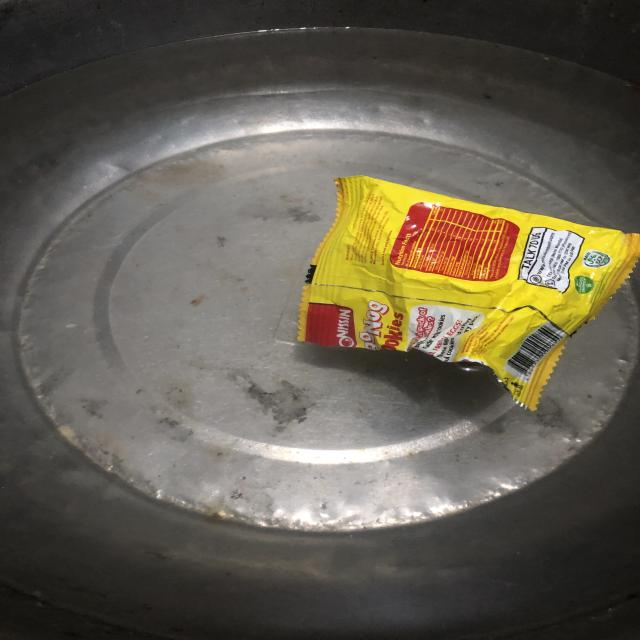Plastic Wrapper: (280, 167, 632, 405)
